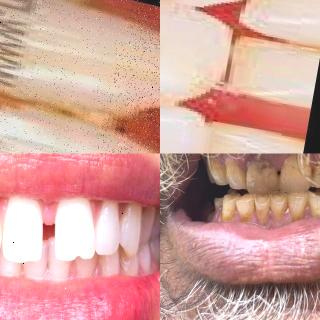calculus: (0, 87, 132, 148)
cavities: (246, 154, 273, 192)
plaque: (277, 155, 309, 179), (226, 157, 240, 179)
stains: (208, 154, 226, 182), (253, 202, 271, 228), (287, 202, 307, 224), (237, 202, 256, 225), (268, 201, 287, 223), (220, 204, 236, 227), (285, 190, 307, 206), (254, 191, 268, 211), (307, 163, 320, 184), (309, 200, 320, 222), (271, 192, 286, 208), (238, 191, 252, 207), (308, 185, 320, 203), (223, 190, 237, 205)
